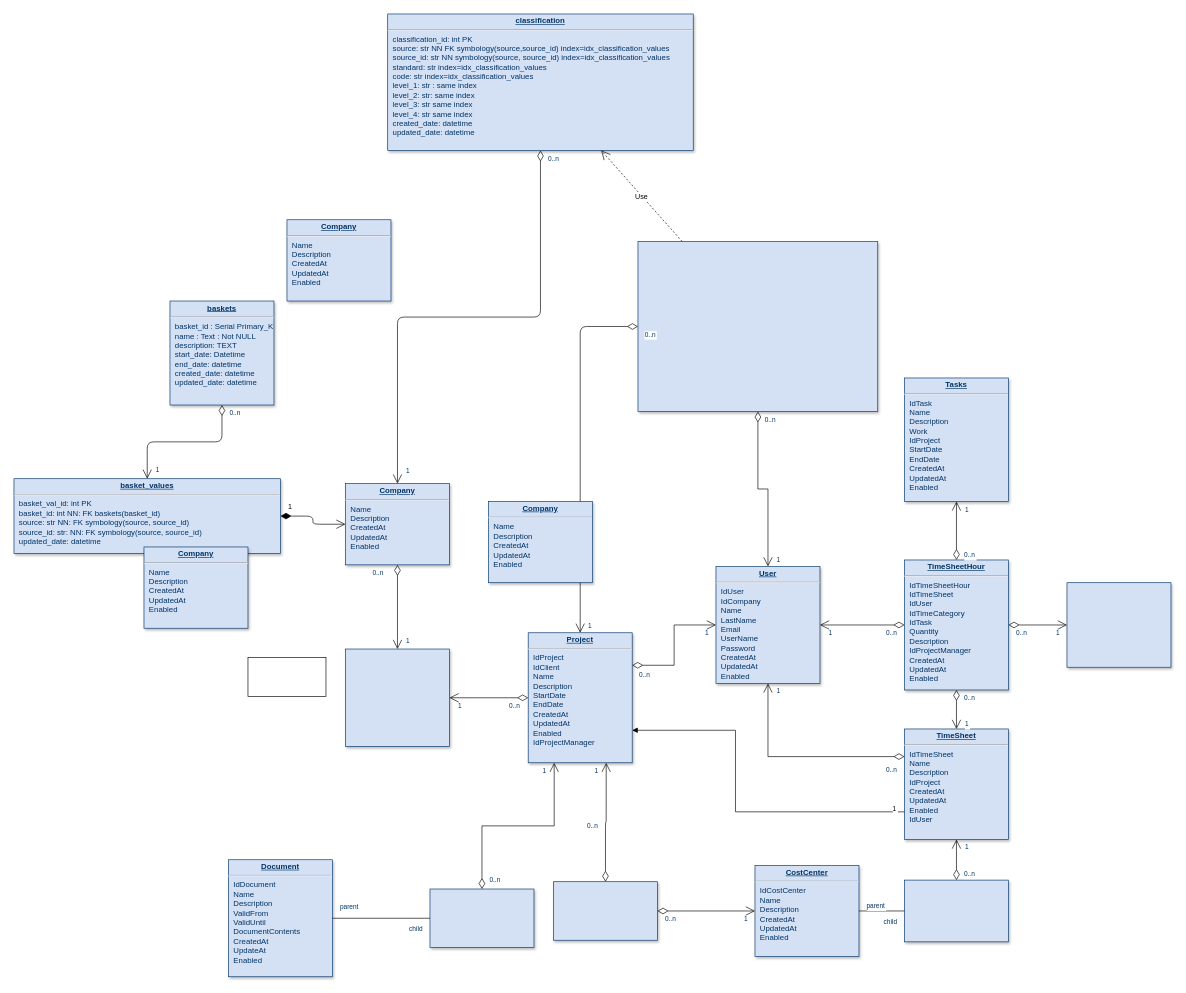
This 1186x993 diagram has some shape labels left out. Each missing label, with the centre of its shape:
Client IdClient IdCompany Name Description CreatedAt UpdatedAt Enabled: the point at 397,698
FK= Foreign Key PK = Primary Key UK = Unique Key: the point at 286,676
intrinio_StockApi_returns: the point at 758,327
ProjectCostCenter IdProjectCostCenter IdProject IdCostCenter: the point at 605,911
ProjectDocument IdProjectDocument IdProject IdDocument: the point at 482,919
TimeCategory IdTimeCategory Name Description CreatedAt UpdatedAt Enabled: the point at 1119,625
TimeSheetCostCenter IdTimeSheetCostCenter IdTimeSheet IdCostCenter: the point at 956,911
